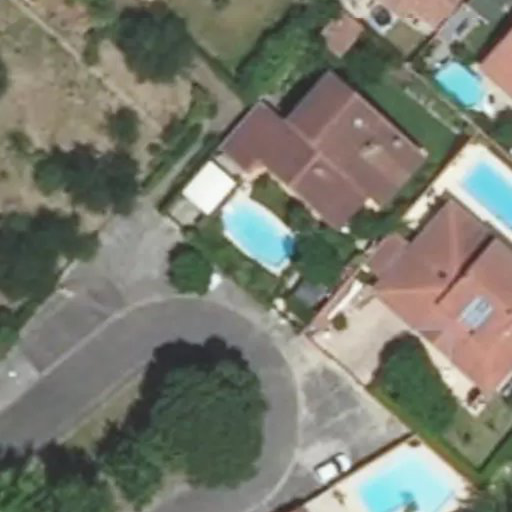pool: (218, 231, 293, 252)
